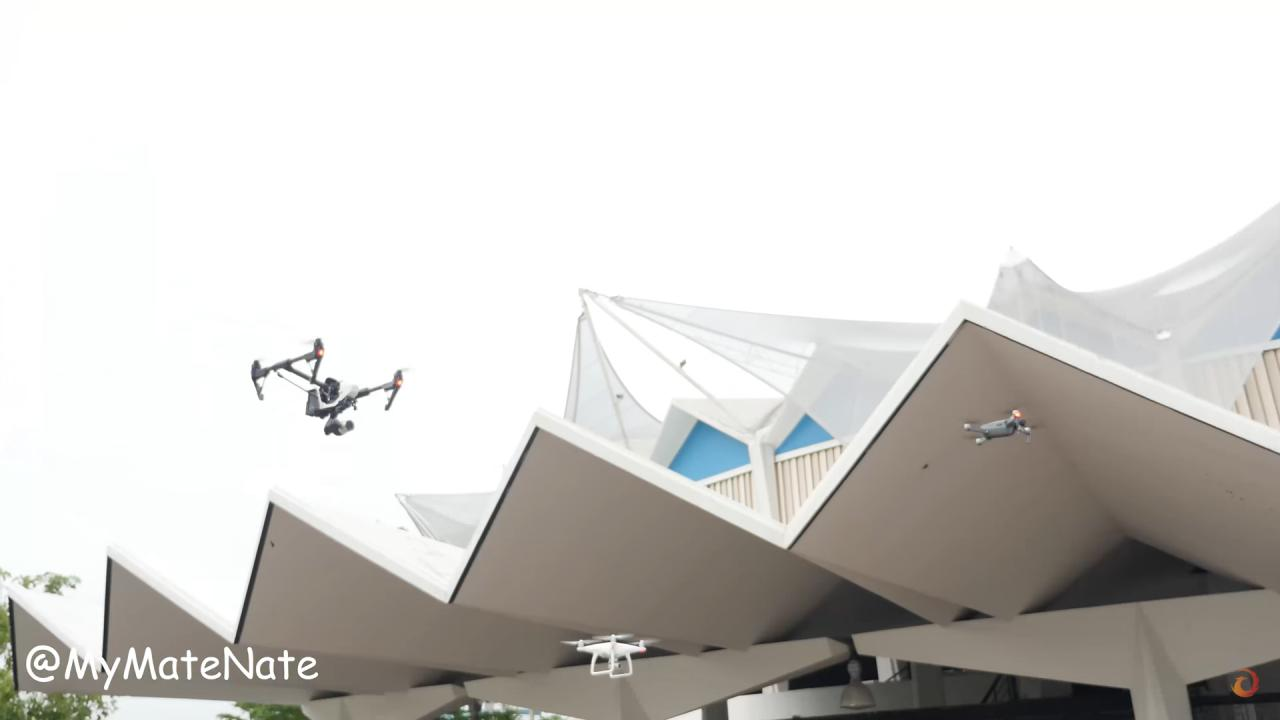Drone: (237, 327, 414, 448), (550, 624, 668, 683), (952, 401, 1048, 453)
